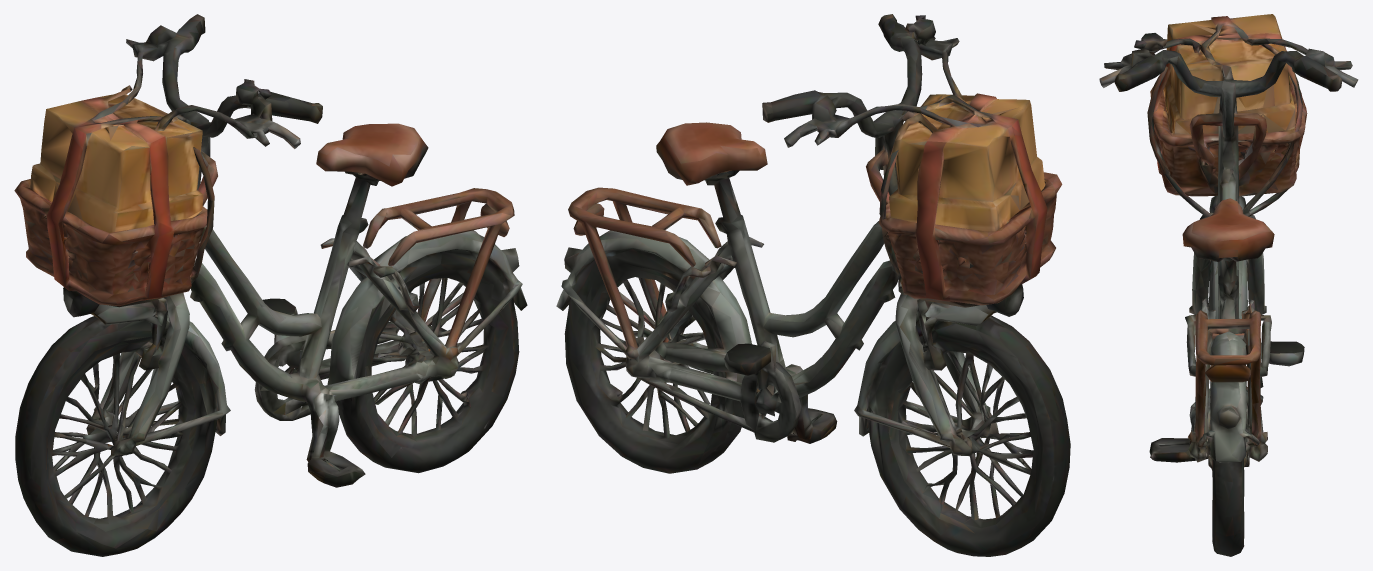
File: sc-delivery-crate.glb
The picture shows the model from 3 angles, left to right: view 1: azimuth 30°, elevation 25°; view 2: azimuth 150°, elevation 25°; view 3: azimuth 270°, elevation 25°; orthographic projection. The views are drawn at different scales.
Parts seen in each view (by area): view 1: geometry_0; view 2: geometry_0; view 3: geometry_0.
Part boxes in pixels (<box>): geometry_0: <box>14,14,527,556</box>; geometry_0: <box>556,14,1070,556</box>; geometry_0: <box>1099,14,1358,556</box>.
Size of the model in its own units: 1 by 0.9127 by 0.5043.
Materials: 1 (1 with a texture image).
